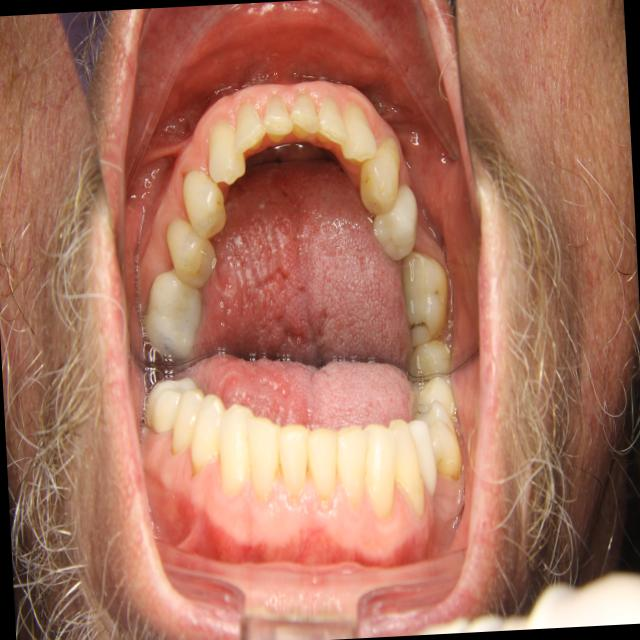tooth: (138, 256, 212, 368), (395, 243, 454, 351), (350, 125, 409, 220), (366, 177, 427, 265), (162, 210, 222, 295), (178, 162, 233, 243), (203, 114, 248, 189), (336, 98, 381, 165), (229, 98, 270, 162), (405, 333, 456, 380), (260, 89, 297, 151), (316, 92, 352, 155), (287, 86, 320, 147)
